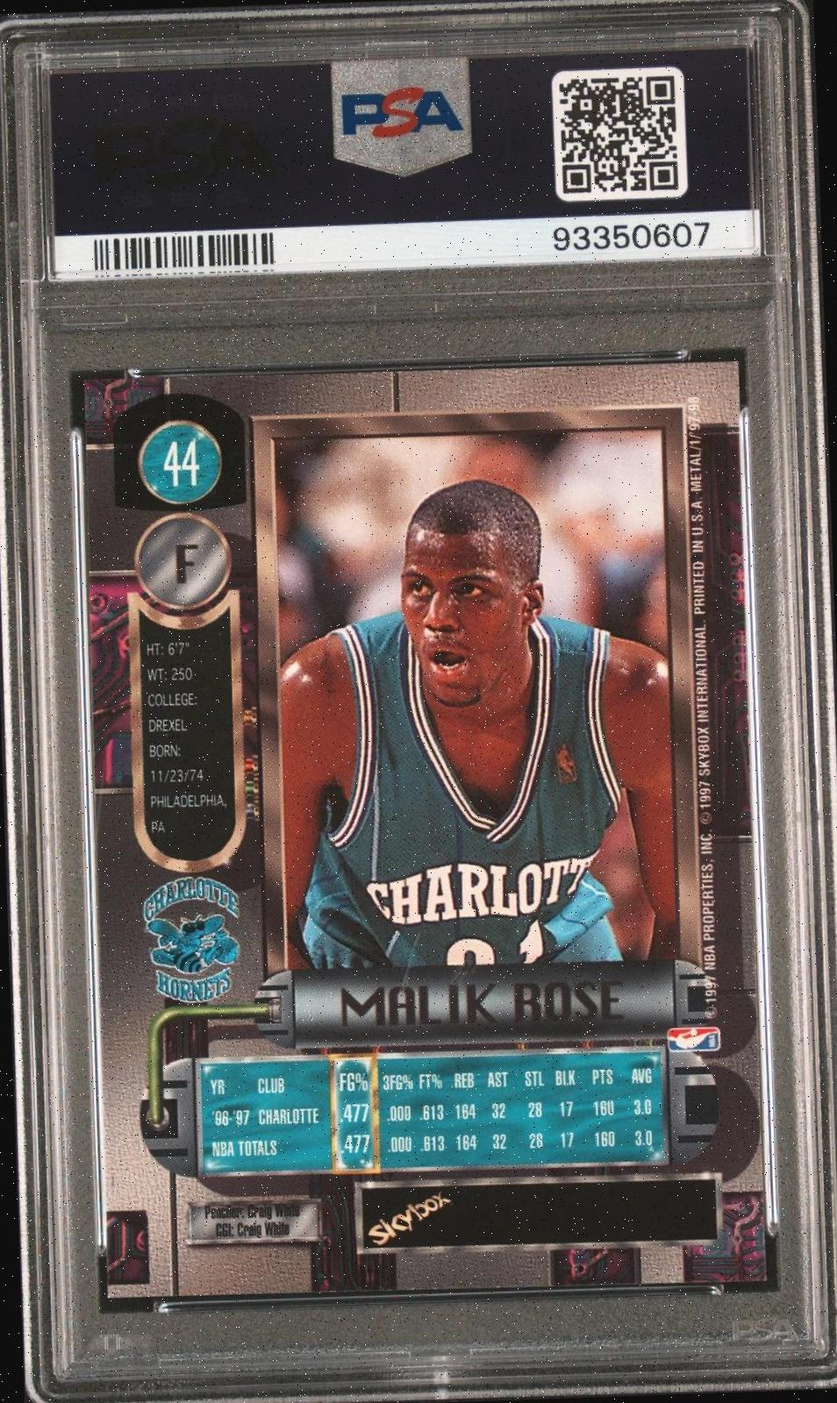card-2UtV: (82, 359, 767, 1300)
